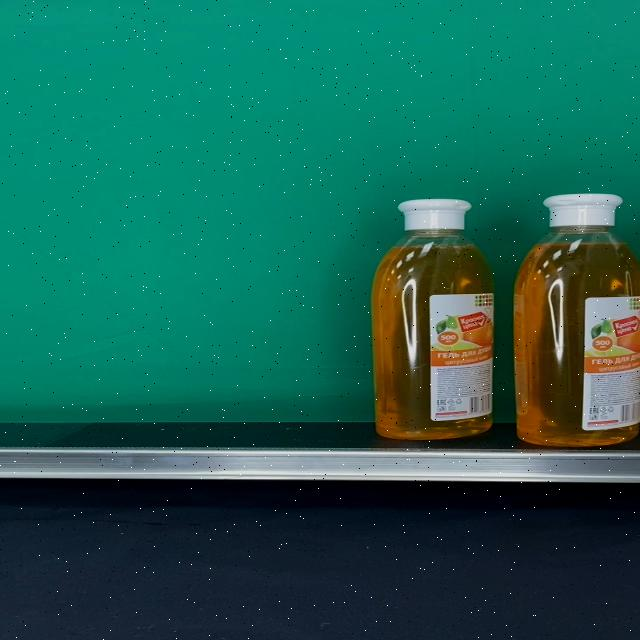Bottle: (514, 193, 640, 446), (371, 198, 496, 440)
Cap: (543, 194, 625, 227), (398, 199, 473, 229)
